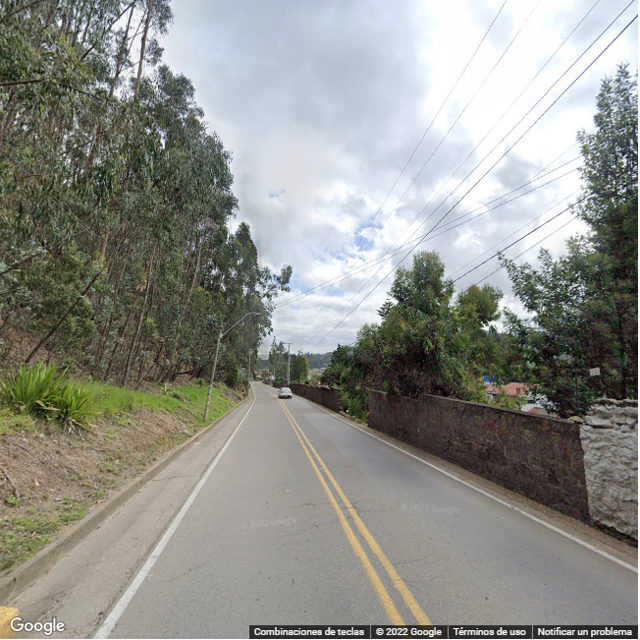D10: (280, 511, 365, 541), (164, 560, 218, 581), (389, 549, 437, 569), (292, 495, 364, 508)
